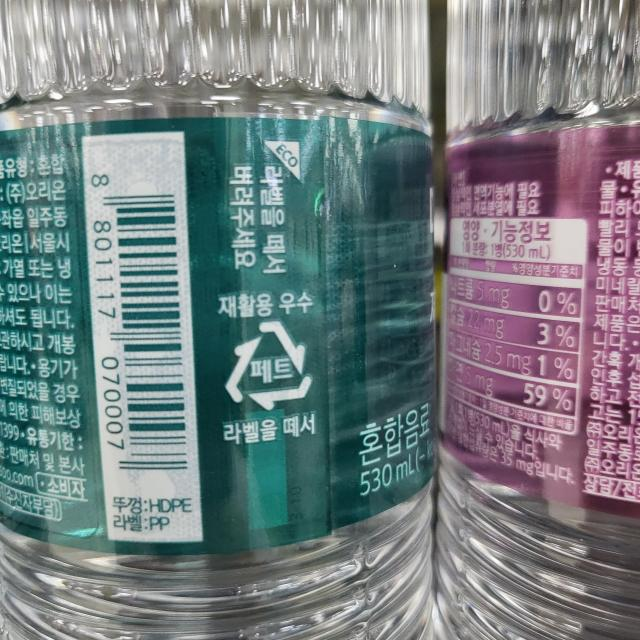PET: (223, 315, 317, 414)
